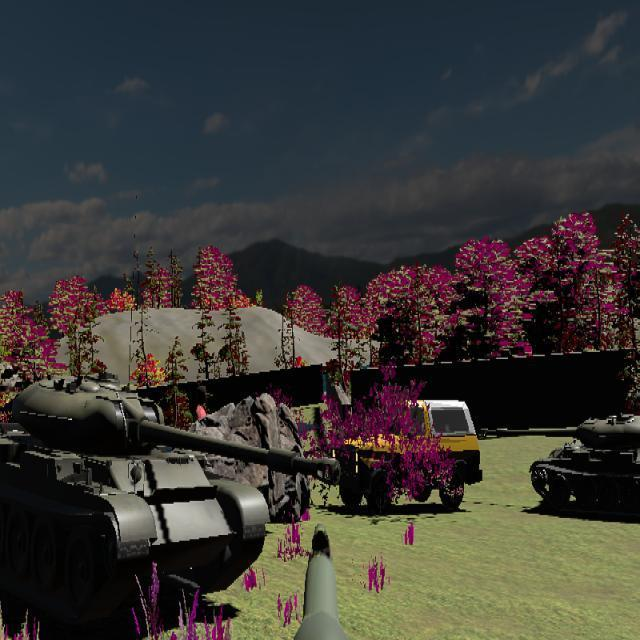Tank: (1, 371, 276, 633), (478, 410, 640, 522)
car: (336, 398, 483, 506)
